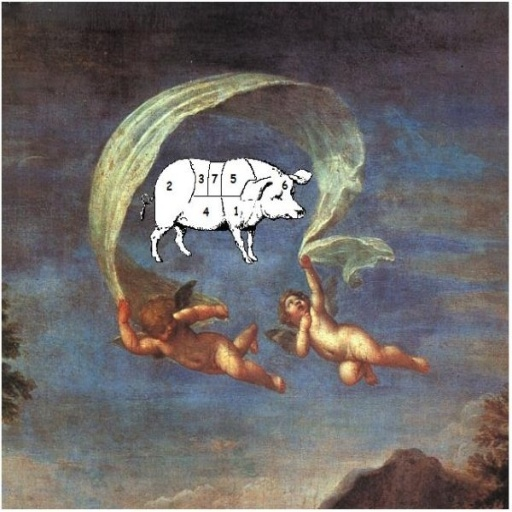hand: (116, 297, 131, 323), (299, 310, 312, 331), (215, 302, 230, 320), (297, 254, 310, 270)
